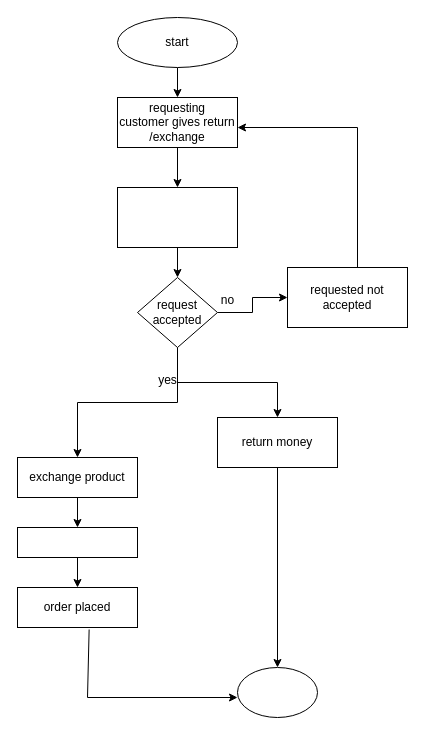
Some shapes in this 425 by 735 pixel diagram are drawn without their labels. Here are the shapes that lost their labels. From the top down, the centre of each, then its label:
At point (177, 217): "reasons for request of exchange or return".
At point (77, 542): "select one product".
At point (277, 692): "stop".
